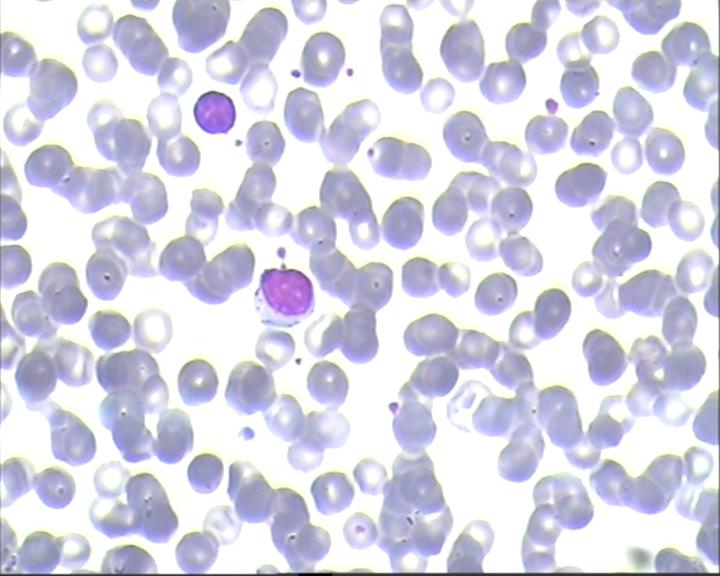lymp: (248, 263, 319, 332), (191, 88, 238, 137)
